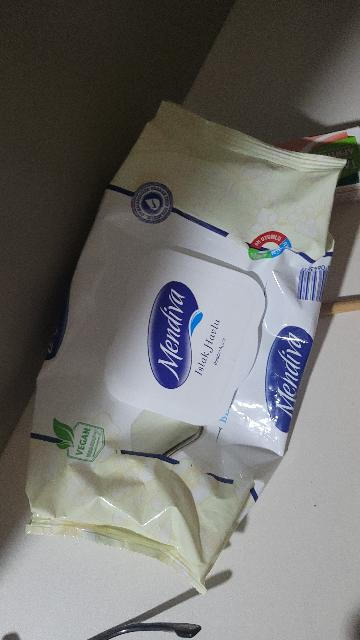Plastik: (18, 101, 337, 583)
